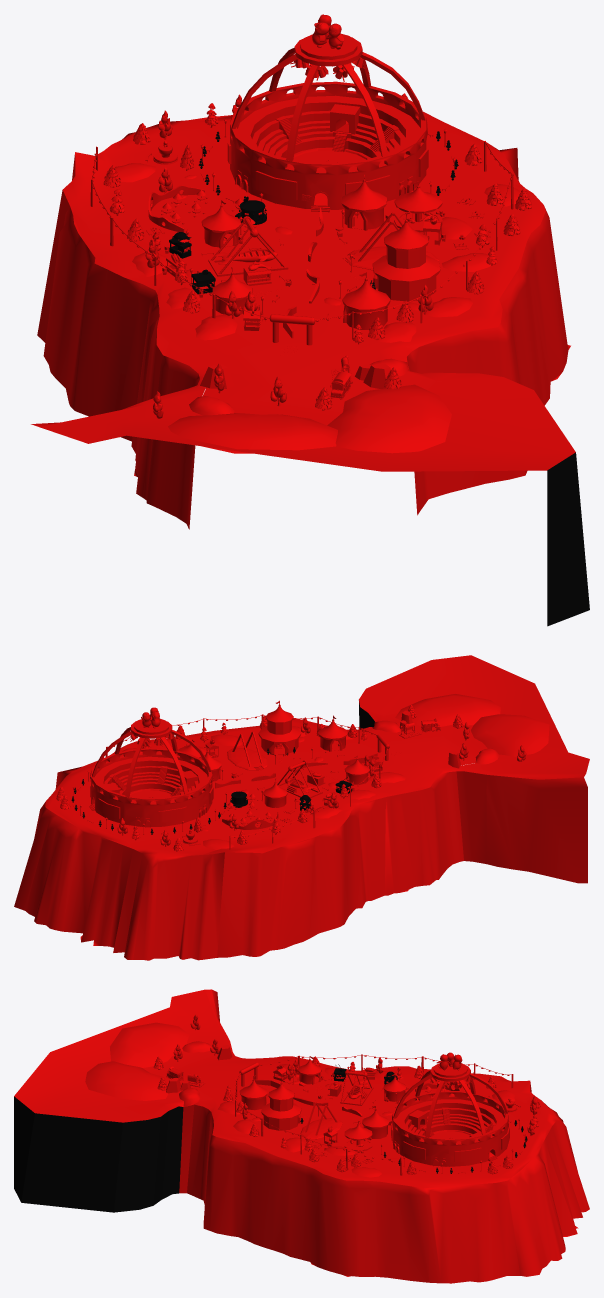
File: Individual_JamboreeSquare_03.glb
The picture shows the model from 3 angles, top to bottom: view 1: azimuth 30°, elevation 25°; view 2: azimuth 150°, elevation 25°; view 3: azimuth 270°, elevation 25°; orthographic projection. The views are drawn at different scales.
Parts seen in each view (by area): view 1: Berg, Arena1_Ande, pasted__pasted__SnowPatch14, pasted__pasted__SnowPatch15, pasted__TENT02, polySurface36, pasted__pCylinder5, pasted__TENT08, pasted__PM3D_Sphere3D_3, pasted__TENT09, polySurface75, pasted__pasted__Object_Lights (+5 smaller); view 2: Berg, Arena1_Ande, pasted__pasted__SnowPatch15, pasted__pasted__SnowPatch14, pasted__TENT02, polySurface75, pasted__pCylinder5, polySurface36, pasted__Walls1_Ande, pasted__TENT05, pasted__TENT09; view 3: Berg, Arena1_Ande, pasted__pasted__SnowPatch15, pasted__pasted__SnowPatch14, pasted__TENT02, polySurface75, pasted__pCylinder5, pasted__PM3D_Sphere3D_3, polySurface36, pasted__TENT08, pasted__pasted__Object_Lights, pasted__pasted__Object_Lights1 (+3 smaller).
Part boxes in pixels (box(x1,y1,x2,y2)): Berg: box(31, 111, 589, 626); Arena1_Ande: box(227, 33, 428, 212); pasted__pasted__SnowPatch14: box(327, 384, 451, 453); pasted__pasted__SnowPatch15: box(168, 413, 337, 453); pasted__TENT02: box(372, 213, 440, 301); polySurface36: box(342, 272, 390, 329); pasted__pCylinder5: box(208, 216, 288, 276); pasted__TENT08: box(341, 173, 386, 230); pasted__PM3D_Sphere3D_3: box(394, 181, 442, 232); pasted__TENT09: box(201, 200, 240, 248); polySurface75: box(343, 212, 439, 270); pasted__pasted__Object_Lights: box(315, 141, 513, 339); Berg: box(14, 655, 589, 960); Arena1_Ande: box(89, 718, 213, 826); pasted__pasted__SnowPatch15: box(471, 714, 549, 756); pasted__pasted__SnowPatch14: box(395, 694, 500, 726); pasted__TENT02: box(258, 700, 301, 754); polySurface75: box(227, 731, 267, 770); pasted__pCylinder5: box(277, 760, 322, 797); polySurface36: box(318, 715, 347, 751); pasted__Walls1_Ande: box(215, 753, 377, 788); pasted__TENT05: box(344, 755, 369, 784); pasted__TENT09: box(263, 778, 287, 807); Berg: box(14, 989, 589, 1283); Arena1_Ande: box(391, 1063, 509, 1166); pasted__pasted__SnowPatch15: box(110, 1022, 189, 1067); pasted__pasted__SnowPatch14: box(85, 1061, 168, 1100); pasted__TENT02: box(261, 1079, 301, 1130); polySurface75: box(300, 1102, 342, 1139); pasted__pCylinder5: box(340, 1070, 373, 1105); pasted__PM3D_Sphere3D_3: box(344, 1120, 372, 1151); polySurface36: box(239, 1075, 267, 1110); pasted__TENT08: box(362, 1106, 389, 1138); pasted__pasted__Object_Lights: box(235, 1073, 402, 1175); pasted__pasted__Object_Lights1: box(259, 1054, 513, 1087).
Size of the model in its own units: 135 by 56.13 by 165.
